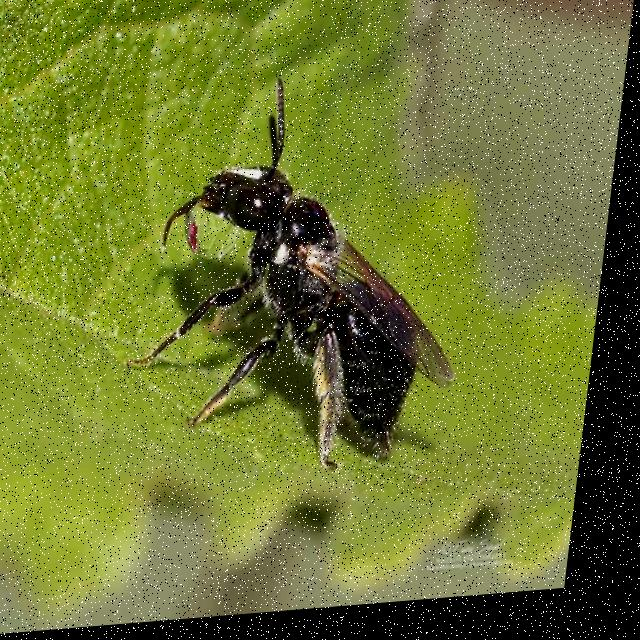Braunsapis: (140, 70, 460, 490)
